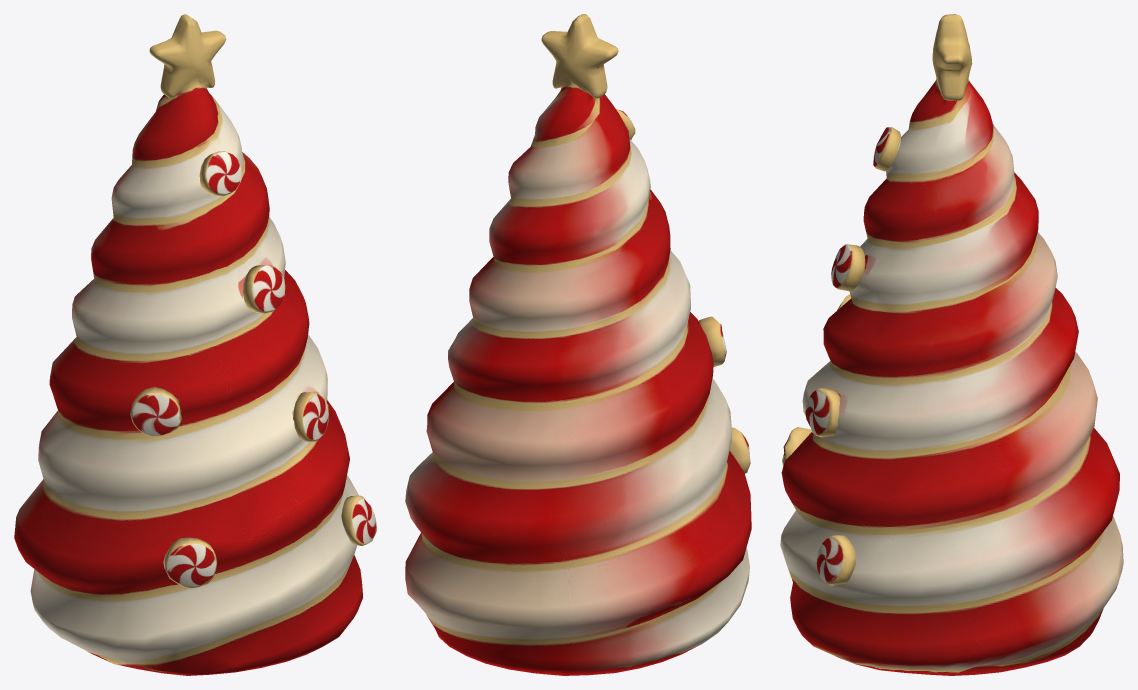
The model's file is AW-XMAS-TREE-003-v0.2.glb.
3 renders of one model, left to right at view 1: azimuth 30°, elevation 25°; view 2: azimuth 150°, elevation 25°; view 3: azimuth 270°, elevation 25°, orthographic.
Visible parts, largest first — view 1: AW-XMAS-TREE-003_meter_ground_pivot; view 2: AW-XMAS-TREE-003_meter_ground_pivot; view 3: AW-XMAS-TREE-003_meter_ground_pivot.
Boxes of the visible parts, x1,y1,x2,y2 form: AW-XMAS-TREE-003_meter_ground_pivot: (14,14,376,675); AW-XMAS-TREE-003_meter_ground_pivot: (405,14,751,675); AW-XMAS-TREE-003_meter_ground_pivot: (780,14,1123,675).
Size of the model in its own units: 2.12 by 4 by 2.08.
1 material, 1 textured.
